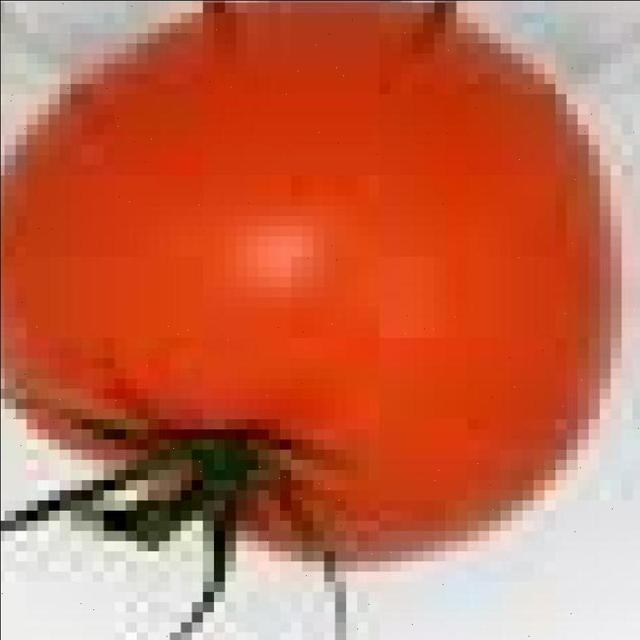Healthy Fruit: (0, 0, 414, 398)
